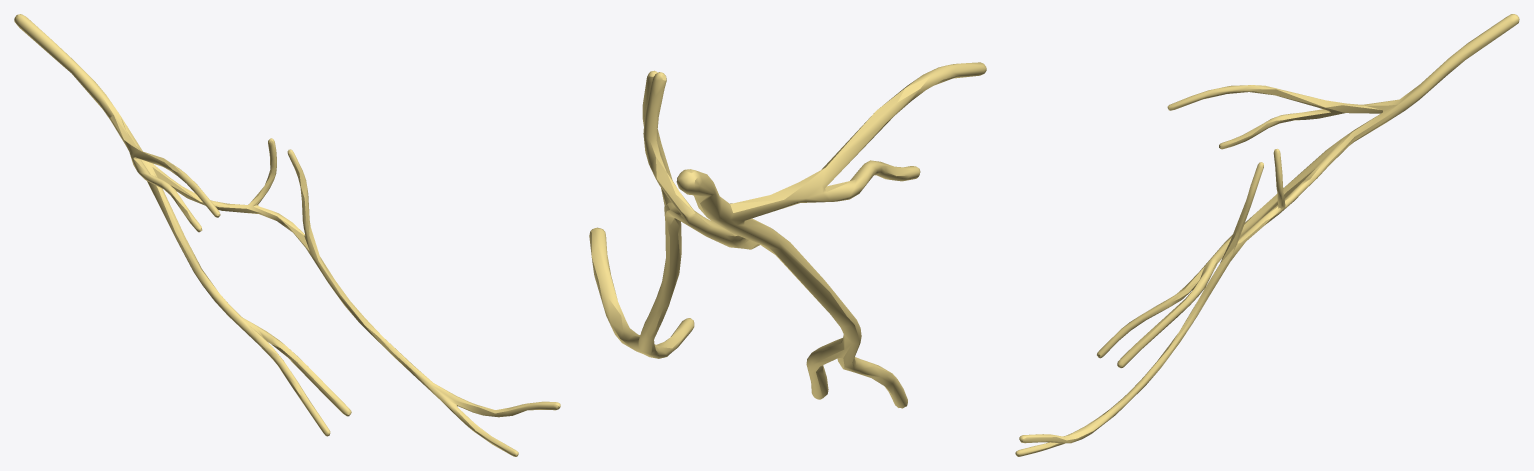
File: fma52577_fj1293.glb
3 renders of one model, left to right at view 1: azimuth 30°, elevation 25°; view 2: azimuth 150°, elevation 25°; view 3: azimuth 270°, elevation 25°, orthographic. The views are drawn at different scales.
Parts seen in each view (by area): view 1: FMA52577_FJ1293; view 2: FMA52577_FJ1293; view 3: FMA52577_FJ1293.
Boxes of the visible parts, x1,y1,x2,y2 form: FMA52577_FJ1293: [14, 14, 560, 456]; FMA52577_FJ1293: [589, 62, 986, 408]; FMA52577_FJ1293: [1015, 14, 1519, 456].
Size of the model in its own units: 0.0246 by 0.0252 by 0.0359.
